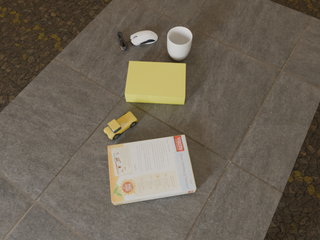book: (125, 61, 186, 104)
box: (108, 135, 196, 205)
cup: (167, 27, 192, 61)
mouse: (131, 31, 158, 45)
toy_car: (104, 112, 137, 140)
